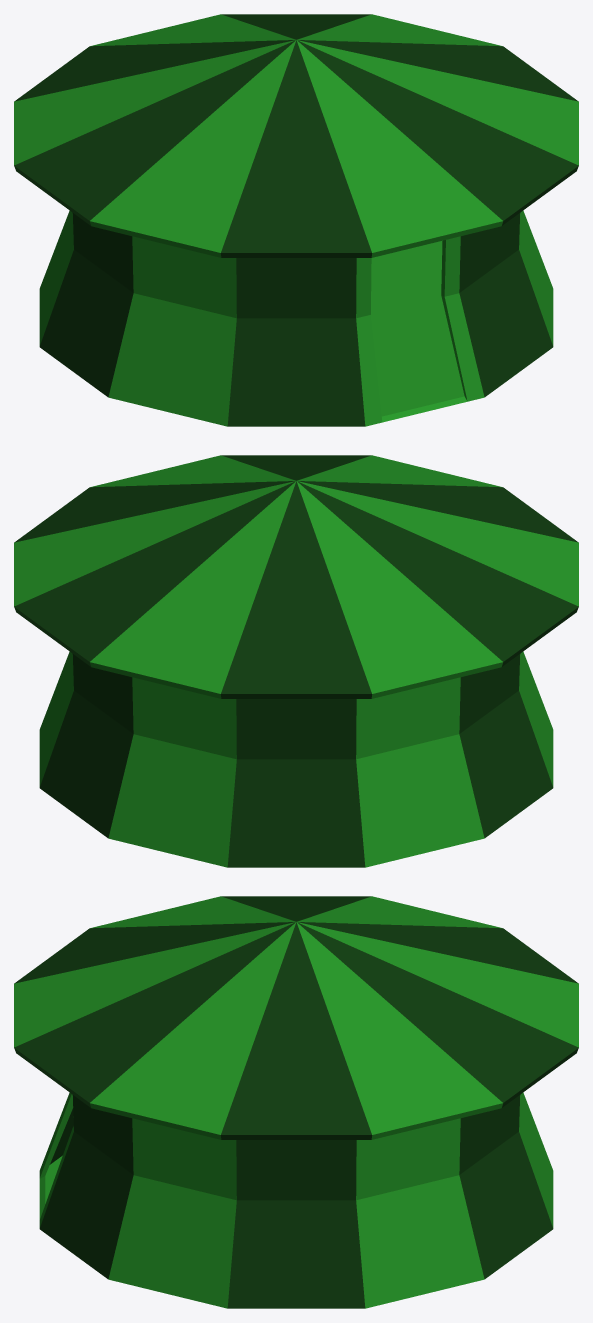
File: Tent_5_Green.fbx
3 views of the same model, one above another, from view 1: azimuth 30°, elevation 25°; view 2: azimuth 150°, elevation 25°; view 3: azimuth 270°, elevation 25° (orthographic).
Visible parts, largest first — view 1: Tent_5_Green_Part_14, Tent_5_Green_Part_3, Tent_5_Green_Part_4, Tent_5_Green_Part_13, Tent_5_Green_Part_1, Tent_5_Green_Part_5, Tent_5_Green_Part_6, Tent_5_Green_Part_12; view 2: Tent_5_Green_Part_14, Tent_5_Green_Part_7, Tent_5_Green_Part_6, Tent_5_Green_Part_8, Tent_5_Green_Part_5, Tent_5_Green_Part_9, Tent_5_Green_Part_4, Tent_5_Green_Part_10; view 3: Tent_5_Green_Part_14, Tent_5_Green_Part_11, Tent_5_Green_Part_10, Tent_5_Green_Part_12, Tent_5_Green_Part_13, Tent_5_Green_Part_9, Tent_5_Green_Part_8, Tent_5_Green_Part_3, Tent_5_Green_Part_1.
Boxes of the visible parts, left/top/right/bottom form: Tent_5_Green_Part_14: left=14, top=14, right=578, bottom=257; Tent_5_Green_Part_3: left=227, top=258, right=382, bottom=426; Tent_5_Green_Part_4: left=108, top=236, right=236, bottom=426; Tent_5_Green_Part_13: left=441, top=213, right=553, bottom=401; Tent_5_Green_Part_1: left=371, top=240, right=467, bottom=422; Tent_5_Green_Part_5: left=39, top=213, right=133, bottom=396; Tent_5_Green_Part_6: left=39, top=210, right=73, bottom=345; Tent_5_Green_Part_12: left=519, top=210, right=553, bottom=345; Tent_5_Green_Part_14: left=14, top=455, right=578, bottom=698; Tent_5_Green_Part_7: left=227, top=699, right=365, bottom=867; Tent_5_Green_Part_6: left=356, top=677, right=484, bottom=867; Tent_5_Green_Part_8: left=108, top=677, right=236, bottom=867; Tent_5_Green_Part_5: left=459, top=654, right=553, bottom=837; Tent_5_Green_Part_9: left=39, top=654, right=133, bottom=837; Tent_5_Green_Part_4: left=519, top=651, right=553, bottom=786; Tent_5_Green_Part_10: left=39, top=651, right=73, bottom=786; Tent_5_Green_Part_14: left=14, top=896, right=578, bottom=1139; Tent_5_Green_Part_11: left=227, top=1140, right=365, bottom=1308; Tent_5_Green_Part_10: left=356, top=1118, right=484, bottom=1308; Tent_5_Green_Part_12: left=108, top=1118, right=236, bottom=1308; Tent_5_Green_Part_13: left=39, top=1095, right=133, bottom=1278; Tent_5_Green_Part_9: left=459, top=1095, right=553, bottom=1278; Tent_5_Green_Part_8: left=519, top=1092, right=553, bottom=1227; Tent_5_Green_Part_3: left=39, top=1092, right=73, bottom=1178; Tent_5_Green_Part_1: left=39, top=1155, right=62, bottom=1219.
Bounding box in the file's own units: 819 × 445 × 819.
